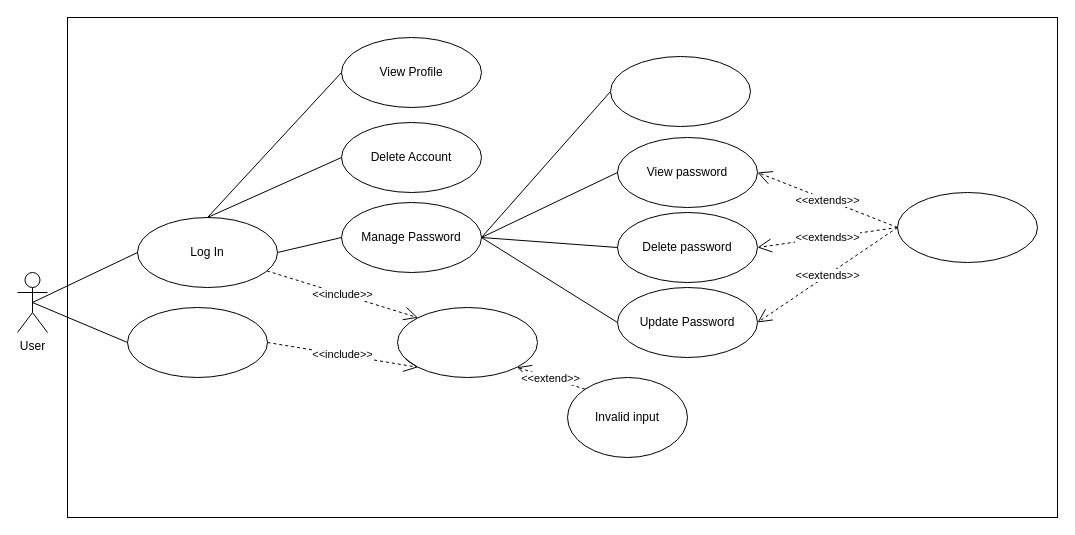
This 1075x535 diagram has some shape labels left out. The shapes that lost their labels are listed below. From the top down, each one's centre as x and y in pixels, then its label:
the point at 680,91: Add a password
the point at 967,227: No passwords found
the point at 197,342: Sign Up
the point at 467,342: Validate input
